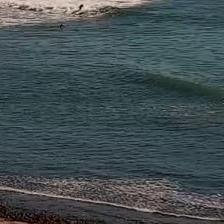surfer: (78, 4, 84, 10), (59, 23, 65, 29)
